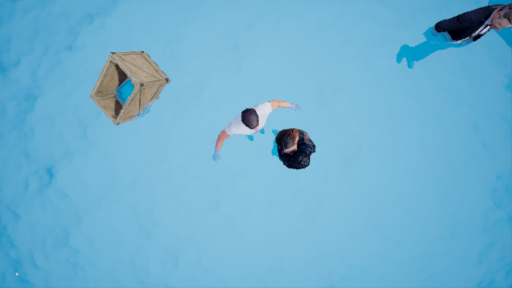person: (210, 90, 329, 180), (401, 2, 512, 81)
